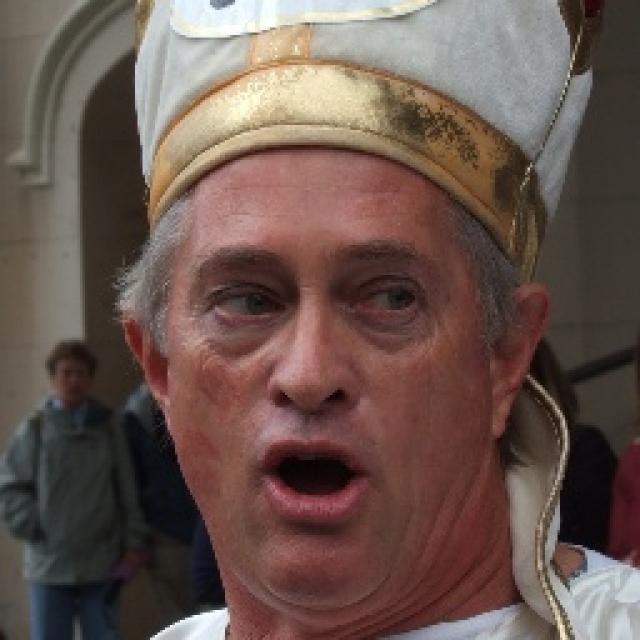earlobe: (486, 282, 552, 437), (120, 306, 173, 432)
